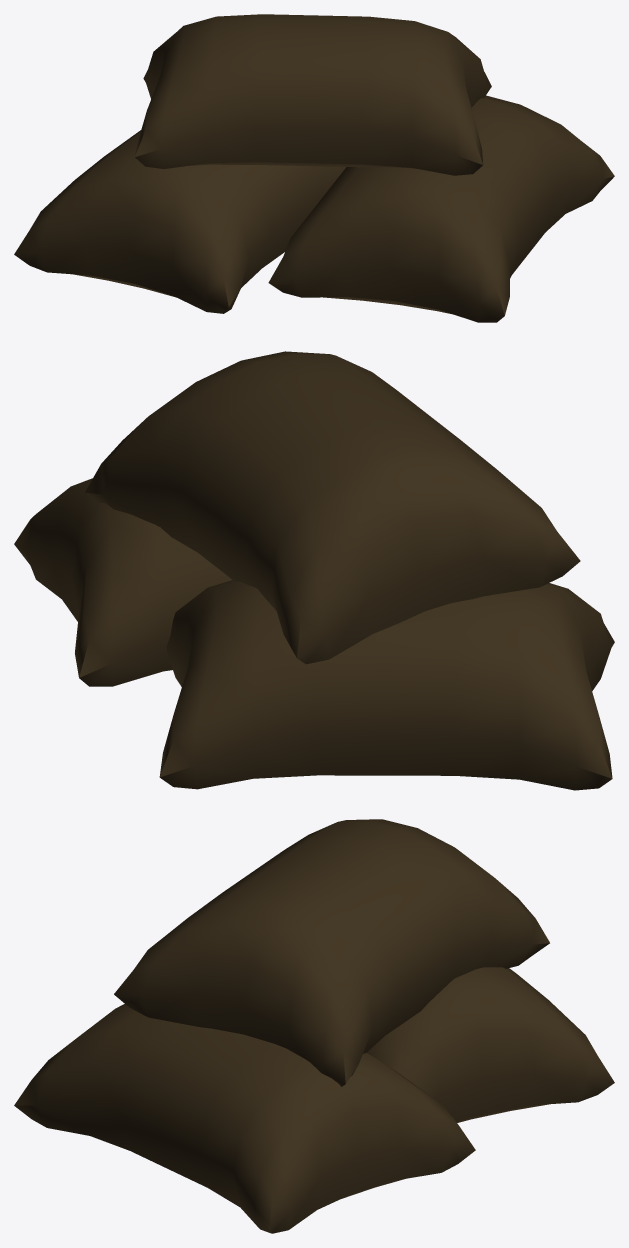
File: Bags.obj
The picture shows the model from 3 angles, top to bottom: view 1: azimuth 30°, elevation 25°; view 2: azimuth 150°, elevation 25°; view 3: azimuth 270°, elevation 25°; orthographic projection. The views are drawn at different scales.
Visible parts, largest first — view 1: Bags; view 2: Bags; view 3: Bags.
Boxes of the visible parts, x1,y1,x2,y2 form: Bags: [14, 14, 614, 322]; Bags: [14, 351, 614, 790]; Bags: [14, 819, 614, 1233].
Bounding box in the file's own units: 0.2697 × 0.1071 × 0.2392.
